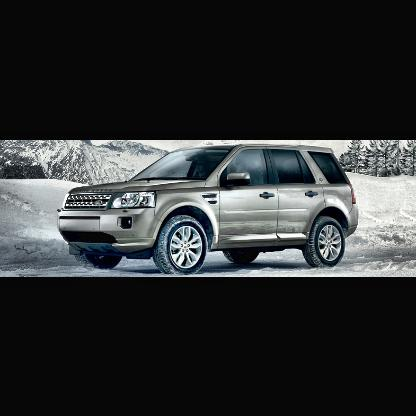Land Rover LR2 SUV 2012: (58, 144, 361, 277)
